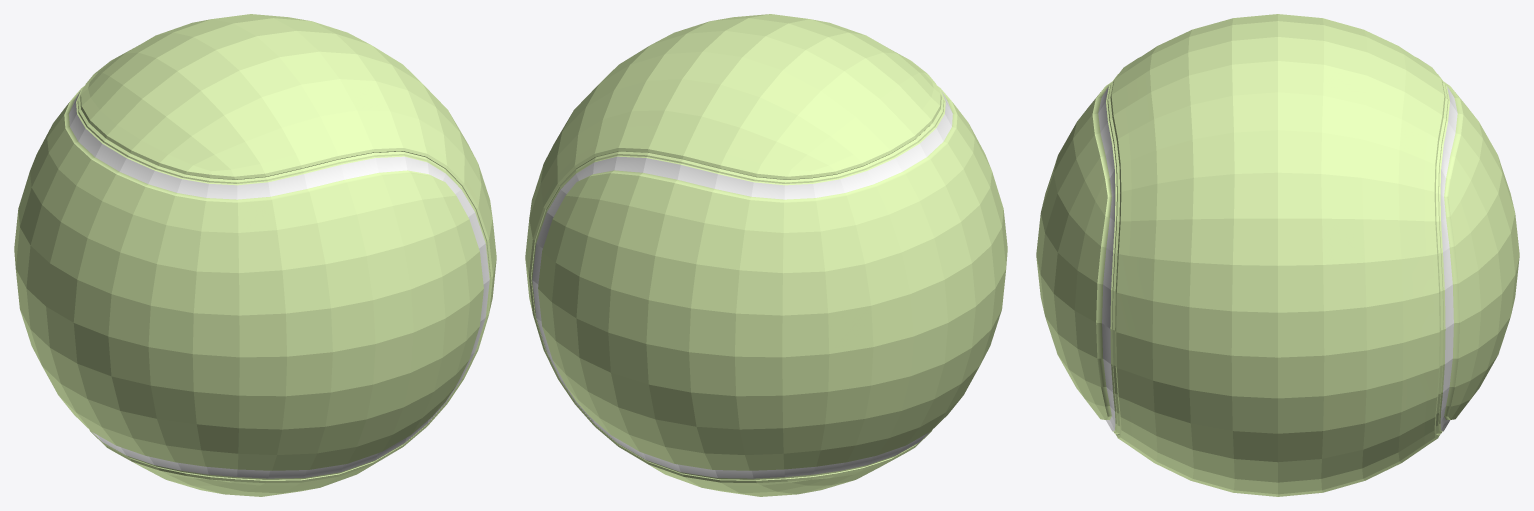
File: tennis-ball.glb
The picture shows the model from 3 angles, left to right: view 1: azimuth 30°, elevation 25°; view 2: azimuth 150°, elevation 25°; view 3: azimuth 270°, elevation 25°; orthographic projection.
Visible parts, largest first — view 1: polySurface2; view 2: polySurface2; view 3: polySurface2.
Boxes of the visible parts, x1,y1,x2,y2 form: polySurface2: [14, 14, 496, 496]; polySurface2: [525, 14, 1007, 496]; polySurface2: [1036, 14, 1519, 496].
Bounding box in the file's own units: 0.0839 × 0.0839 × 0.0839.
